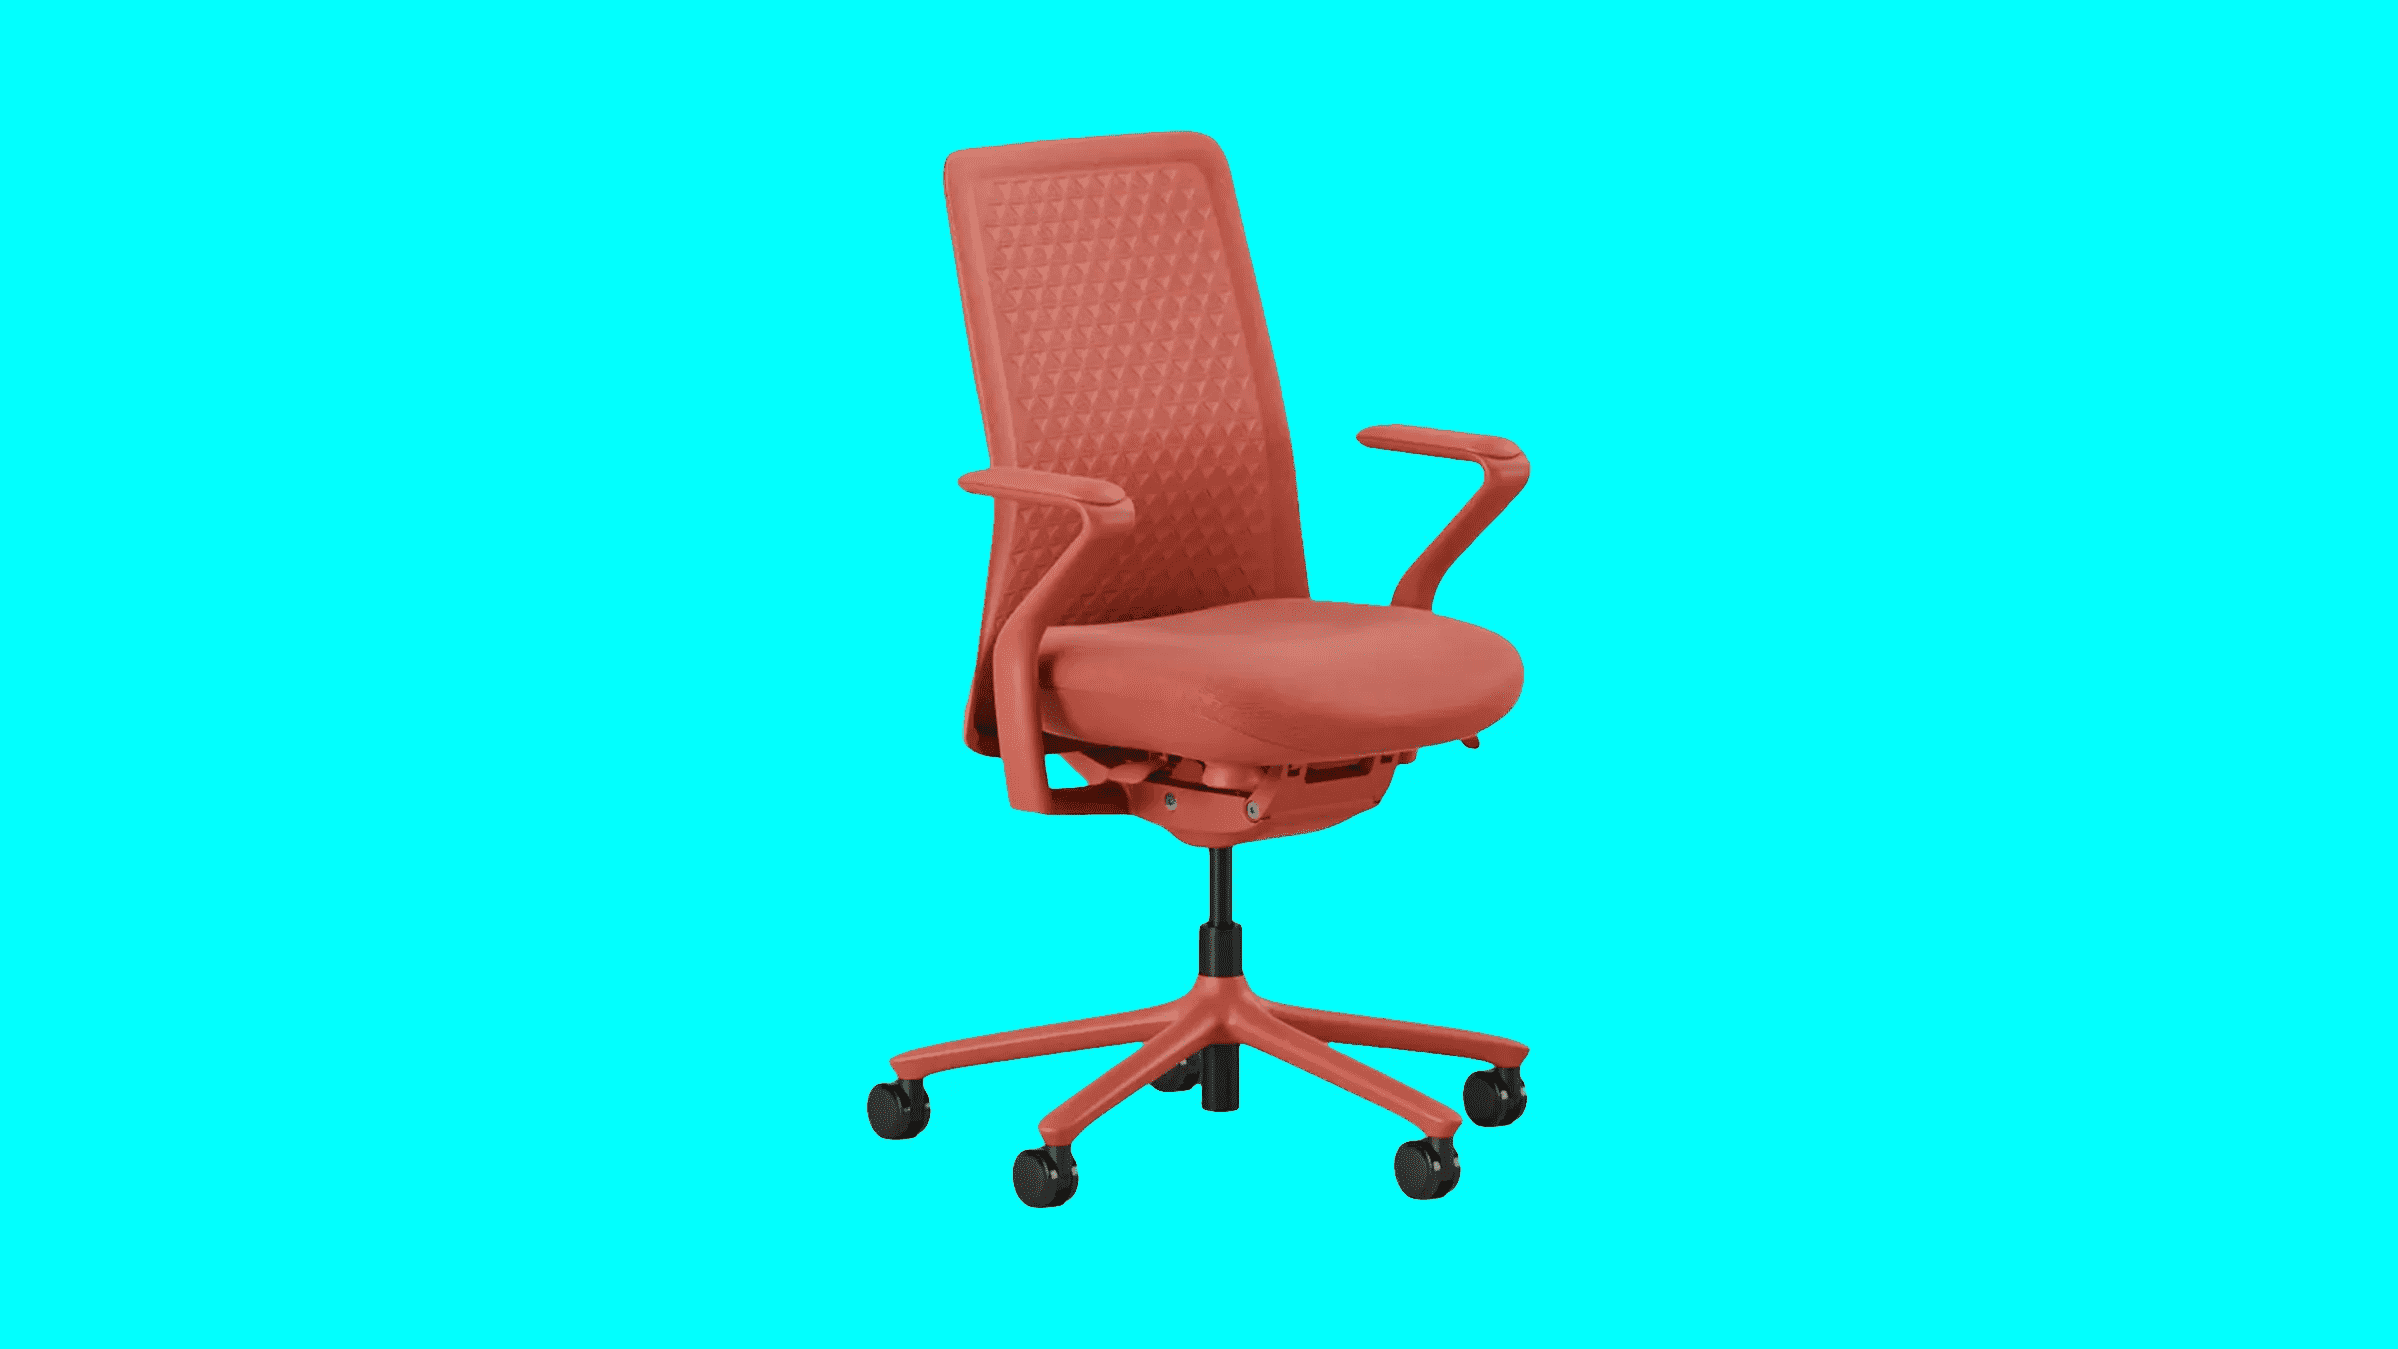chair: (870, 122, 1560, 1217)
